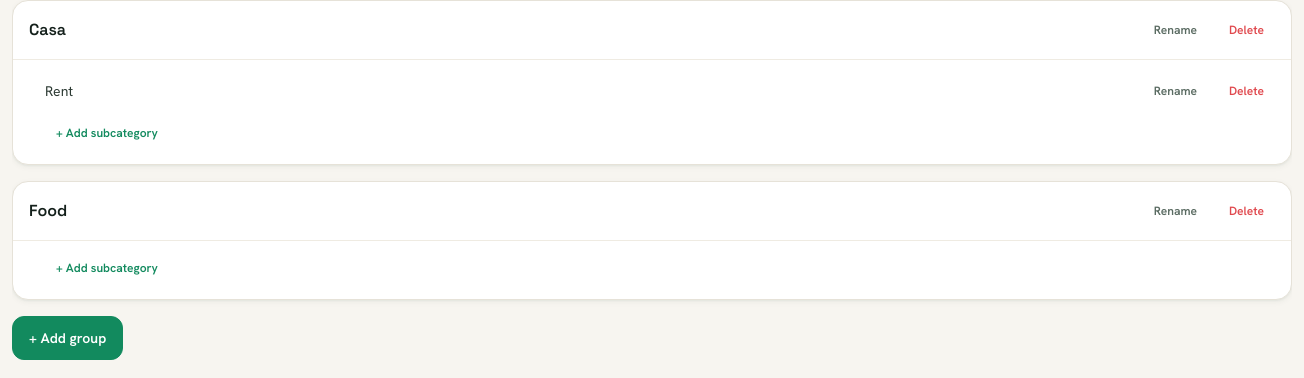
CategoriesManager — add group inline › clicking "+ Add group" button shows the inline input
This screenshot has width=1304, height=378.
Step 1. Click the button "+ Add group" → [68, 338], box x1=12 y1=316 x2=123 y2=360
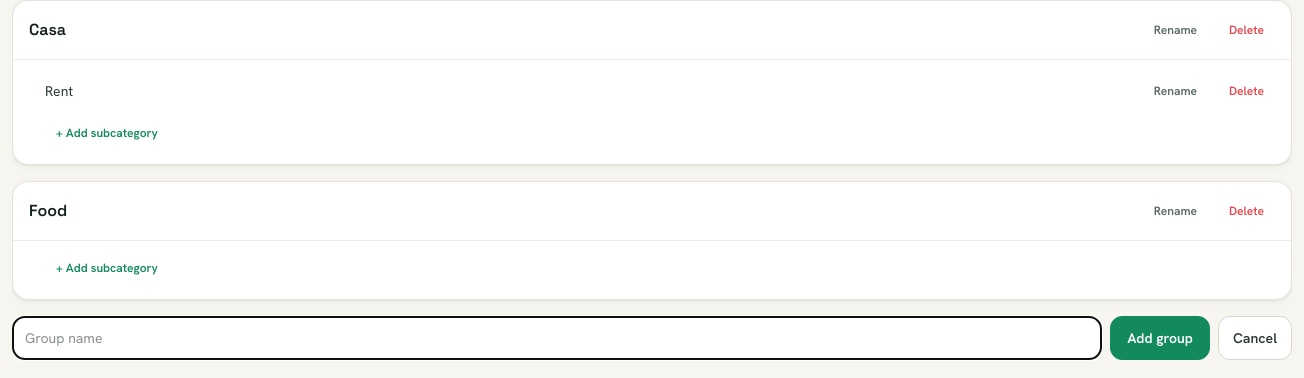
Expected: the field with placeholder "Group name" is shown, x1=12 y1=316 x2=1102 y2=360
